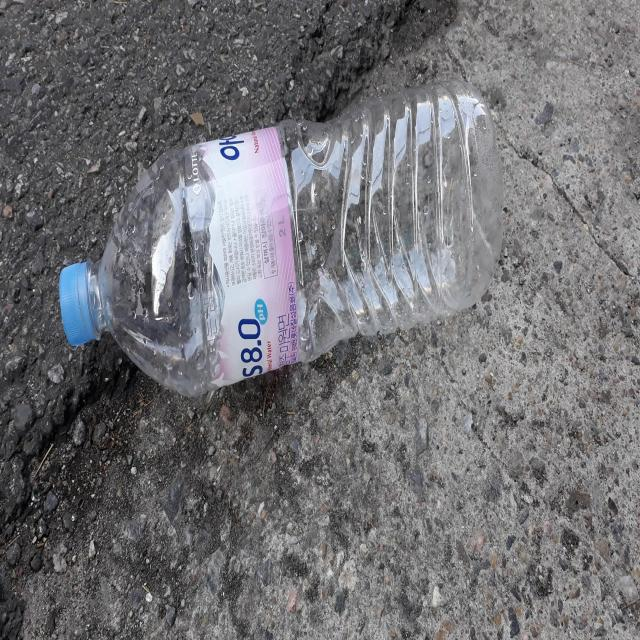plastic: (59, 79, 504, 396)
